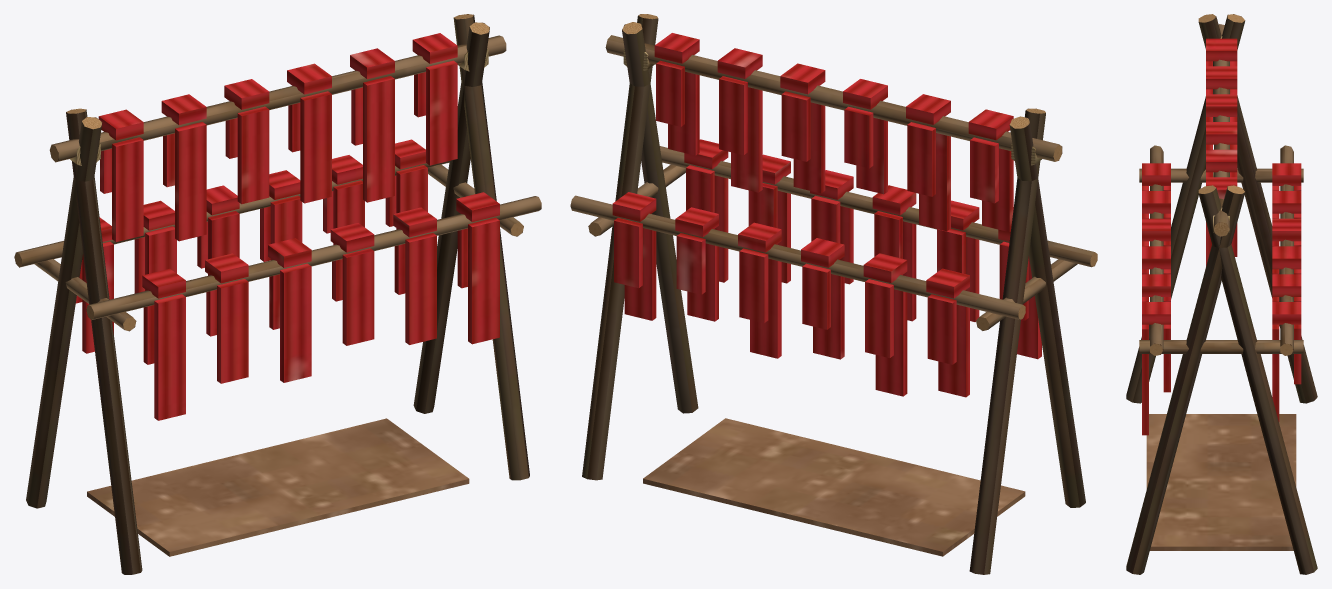
Rendered from drying_rack_raw.glb.
3 renders of one model, left to right at view 1: azimuth 30°, elevation 25°; view 2: azimuth 150°, elevation 25°; view 3: azimuth 270°, elevation 25°, orthographic. The views are drawn at different scales.
Parts seen in each view (by area): view 1: drying_rack_raw; view 2: drying_rack_raw; view 3: drying_rack_raw.
Boxes of the visible parts, <box> form: drying_rack_raw: <box>14,14,541,574</box>; drying_rack_raw: <box>570,14,1097,574</box>; drying_rack_raw: <box>1126,14,1317,574</box>.
Bounding box in the file's own units: 1.94 × 1.76 × 0.7939.
Materials: 1 (1 with a texture image).
